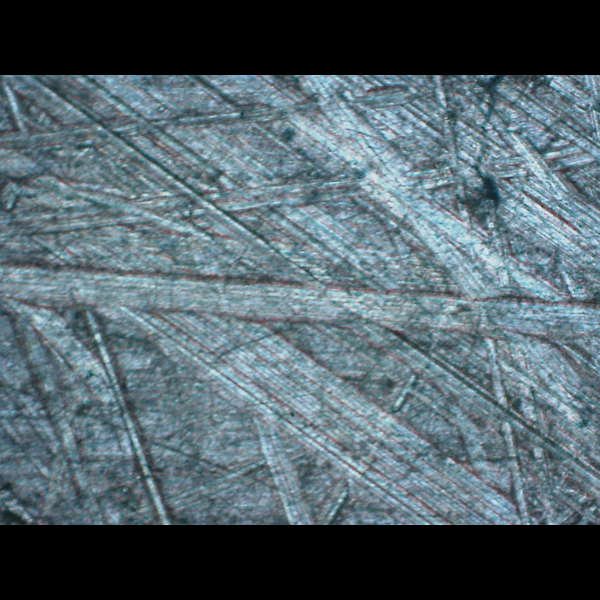d: (0, 75, 593, 355), (140, 294, 546, 518), (405, 123, 536, 267)
